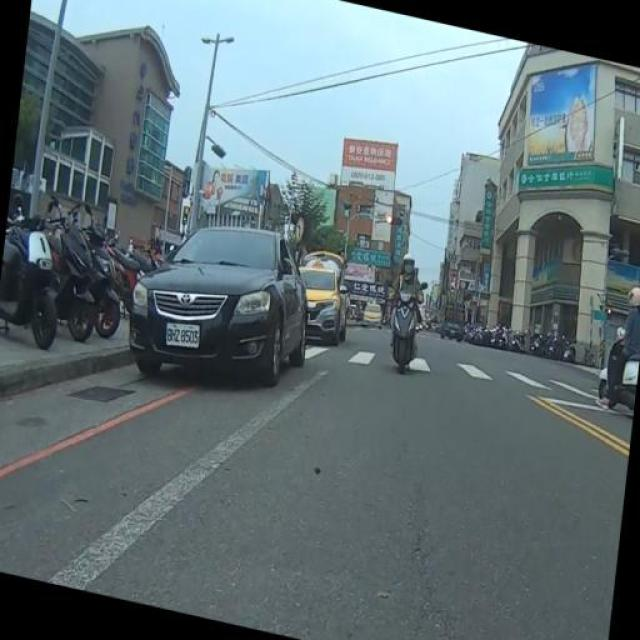Legalparking: (7, 193, 178, 366)
illegalparking: (123, 226, 369, 397)
